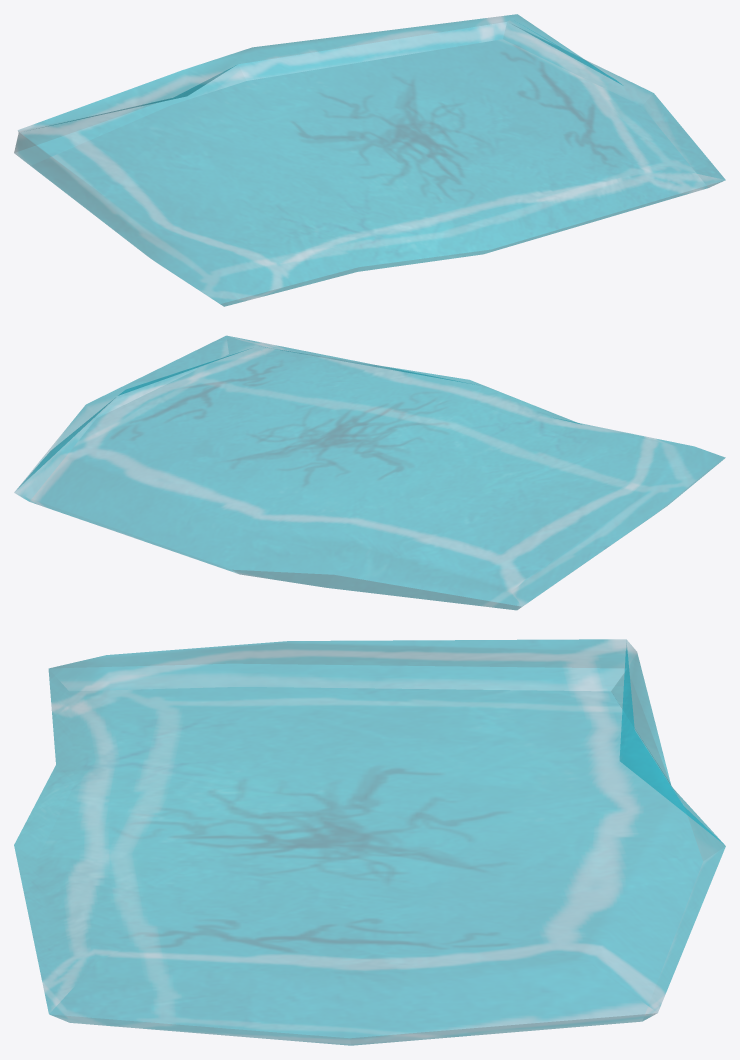
The model's file is iceBlock.fbx.
3 renders of one model, top to bottom at view 1: azimuth 30°, elevation 25°; view 2: azimuth 150°, elevation 25°; view 3: azimuth 270°, elevation 25°, orthographic. The views are drawn at different scales.
Parts seen in each view (by area): view 1: iceBlock_geo; view 2: iceBlock_geo; view 3: iceBlock_geo.
Part boxes in pixels (<box>): iceBlock_geo: <box>14,14,725,306</box>; iceBlock_geo: <box>14,335,725,610</box>; iceBlock_geo: <box>14,639,725,1045</box>.
Bounding box in the file's own units: 1323 × 116 × 1062.
